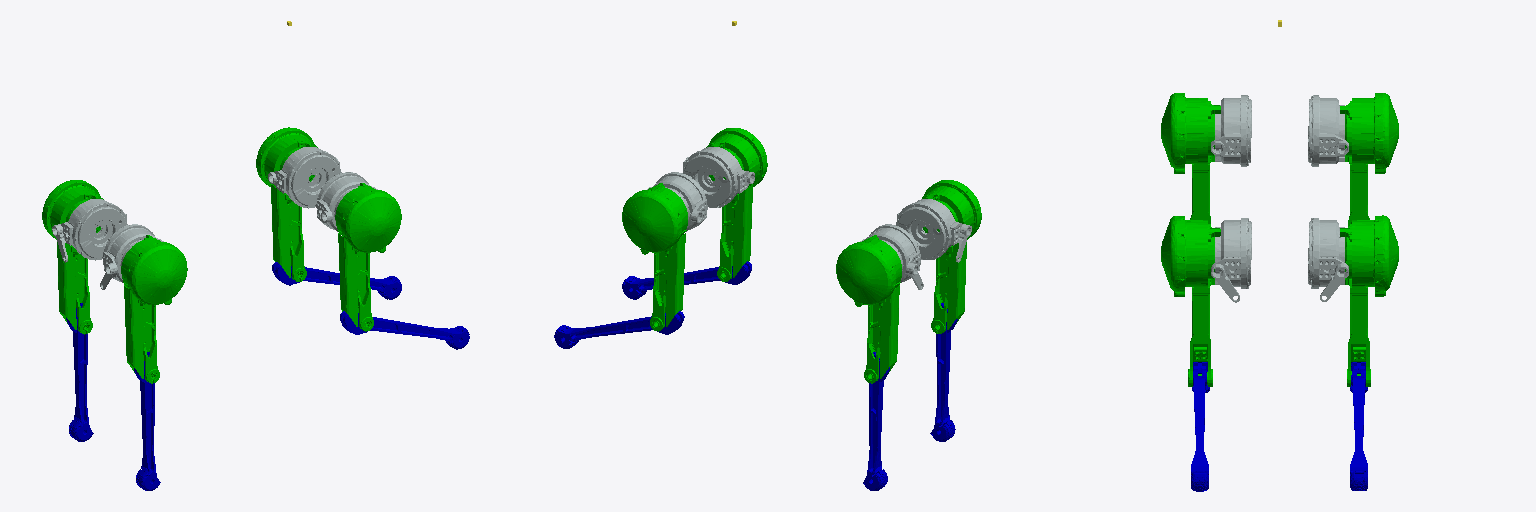
URDF robot description (jueying_model):
<?xml version="1.0" encoding="utf-8"?>
<!-- 
绝影的URDF文件，使用ANYmal的命名方式，将所有规则和内容与ANYmal相统一以嵌入其强化学习算法系统
数据来自SOLIDWORKS-URDF插件导入，但命名方式以及排版经过修改
父版本：1123_Jewel

__删除了关节的Safety项(20191118）
__将外观mesh文件的路径修改为相对路径(20191118）
__修正了RF_HIP的标签字符不全(20191119)
__将mesh全部替换为obj文件(20191120)
__在每条腿末端添加新的球状连杆“FOOT”以及与之相连的固定关节“ANKLE"(20191120)
__使用新的来自Github的绝影URDF重新编写(20191123)
__删除新模型中所有关节的Dynamic项(20191123)
__加入宝石材质(20191123)
__去除了所有的mesh文件调用并使用圆柱代替腿部连杆(20191125)
__代替mesh文件的圆柱可能存在碰撞卡死问题，需要调试
__把所有cylinder的长度调小了十倍以观察位置

-->
<robot name="jueying_model">

    <material name="Obsidian"> 
    	<color rgba="0.05 0.05 0.0 1.0"/> 
    </material>
    <material name="Lasurite"> 
    	<color rgba="0.0 0.0 0.8 0.6"/> 
    </material>
    <material name="Canutillos"> 
    	<color rgba="0.0 0.8 0.0 0.6"/> 
    </material>
    <material name="Pearl"> 
    	<color rgba="0.7 0.75 0.75 1.0"/> 
    </material>
    <material name="Ruby"> 
    	<color rgba="0.8 0.0 0.0 0.6"/> 
    </material>

    <material name="Diamond"> 
    	<color rgba="1.0 1.0 1.0 0.2"/> 
    </material>

    <link name="base">
        <visual>
            <origin xyz="0 0 0" rpy="1.57 0 3.14" />
            <geometry>
                <mesh filename="../meshes/base_link.obj" />
                <!-- <cylinder length="0.5" radius="0.04"/> -->
            </geometry>
            <material name="Diamond"/>
        </visual>
        <collision>
            <origin xyz="0 0 0" rpy="0 1.57 0" />
            <geometry>
                <!-- <mesh filename="../meshes/base_link.obj" /> -->
                <cylinder length="0.5" radius="0.04"/>
            </geometry>
        </collision>
    </link>


    <joint name="base_to_base_inertia" type="fixed">
        <parent link="base"/>
        <child link="base_inertia"/>
        <origin rpy="0 0 0" xyz="0 0 0"/>
    </joint>


    <link name="base_inertia">
        <inertial>
            <origin xyz="0.0030652 0.0043949 0.015248" rpy="0 0 0" />
            <mass value="30.0" />
            <inertia ixx="0.15234" ixy="0.00092094" ixz="-0.0095582" iyy="0.68188" iyz="0.00091552" izz="0.64094" />
        </inertial>
    </link>


    <link name="imu_link">
        <inertial>
            <mass value="0.001"/>
            <origin rpy="0 0 0" xyz="0 0 0"/>
            <inertia ixx="0.0001" ixy="0" ixz="0" iyy="0.000001" iyz="0" izz="0.0001"/>
        </inertial>
        <visual>
            <origin rpy="0 0 0" xyz="0 0 0"/>
            <geometry>
                <box size="0.001 0.001 0.001"/>
            </geometry>
        </visual>
        <collision>
            <origin rpy="0 0 0" xyz="0 0 0"/>
            <geometry>
                <box size=".001 .001 .001"/>
            </geometry>
        </collision>
    </link>


    <joint name="imu_joint" type="fixed">
        <axis xyz="0 0 0"/> 
        <origin xyz="0 0 0"/>
        <parent link="base"/>
        <child link="imu_link"/>
    </joint>

    <link name="lidar_link">
        <visual>
            <origin rpy="0 0 0" xyz="0 0 0"/>
            <geometry>
                <box size="0.01 0.01 0.01"/>
            </geometry>
        </visual>
        <collision>
            <origin rpy="0 0 0" xyz="0 0 0"/>
            <geometry>
                <box size=".01 .01 .01"/>
            </geometry>
        </collision>
    </link>


    <joint name="lidar_joint" type="fixed">
        <axis xyz="0 0 0"/> 
        <origin xyz="0.2 0 0.5"/>
        <parent link="base"/>
        <child link="lidar_link"/>
    </joint>



    <link name="LF_HIP">
        <inertial>
            <origin xyz="-0.002759 -0.038003 -0.0020471" rpy="0 0 0" />
            <mass value="3.0" />
            <inertia ixx="0.00084975" ixy="2.5128E-05" ixz="-3.1095E-05" iyy="0.0016235" iyz="1.9684E-05" izz="0.0012084" />
        </inertial>
        <visual>
            <origin xyz="0 0 0" rpy=" 1.5707963268 0 3.1415926" />
            <geometry>
                <mesh filename="../meshes/FL_HipX.obj" />
                <!-- <cylinder length="0.136" radius="0.008"/> -->
            </geometry>
            <material name="Pearl"/>
        </visual>
    </link>


    <joint name="LF_HAA" type="revolute">
        <origin xyz="0.317 0.136 0" rpy="0 0 0" />
        <parent link="base" />
        <child link="LF_HIP" />
        <axis xyz="1 0 0" />
        <limit lower="-0.39" upper="0.39" effort="38.6" velocity="13.6" />
    </joint>


    <link name="LF_THIGH">
        <inertial>
            <origin xyz="-0.0024066 0.026983 -0.047138" rpy="0 0 0" />
            <mass value="6.0" />
            <inertia ixx="0.0091835" ixy="-5.5596E-05" ixz="-0.00026799" iyy="0.0095232" iyz="-0.0011185" izz="0.0023439" />
        </inertial>
        <visual>
            <origin xyz="0 0 0" rpy="1.5707963268 0 3.1415926" />
            <geometry>
                <mesh filename="../meshes/FL_HipY.obj" />                
                <!-- <cylinder length="0.25" radius="0.015"/> -->
            </geometry>
            <material name="Canutillos"/>
        </visual>
        <collision>
            <origin xyz="0 0 -0.125" rpy="0 0 0" />
            <geometry>
                <!-- <mesh filename="../meshes/FL_HipY.obj" /> -->                
                <cylinder length="0.25" radius="0.015"/>
            </geometry>
        </collision>
    </link>


    <joint name="LF_HFE" type="revolute">
        <origin xyz="0.0005 0.037 0" rpy="0 0 0" />
        <parent link="LF_HIP" />
        <child link="LF_THIGH" />
        <axis xyz="0 1 0" />
        <limit lower="-2.27" upper="2.27" effort="52.1" velocity="13.4" />
    </joint>


    <link name="LF_SHANK">
        <inertial>
            <origin xyz="-0.0045936 4.5131E-05 -0.14462" rpy="0 0 0" />
            <mass value="1.0" />
            <inertia ixx="0.0048214" ixy="-9.1437E-08" ixz="8.5221E-05" iyy="0.0048402" iyz="1.3168E-06" izz="5.8603E-05" />
        </inertial>
        <visual>
            <origin xyz="0 0 0" rpy="1.5707963268 0 3.1415926" />
            <geometry>
                <mesh filename="../meshes/FL_Knee.obj" />             
                <!-- <cylinder length="0.3" radius="0.01"/> -->
            </geometry>
            <material name="Lasurite"/>
        </visual>
<!--         <collision>
            <origin xyz="0 0 -0.15" rpy="0 0 0" />
            <geometry>
                <mesh filename="../meshes/FL_Knee.obj" />             
                <cylinder length="0.3" radius="0.01"/>
            </geometry>
        </collision> -->
    </link>


    <joint name="LF_KFE" type="revolute">
        <origin xyz="0 0 -0.3" rpy="0 0 0" />
        <parent link="LF_THIGH" />
        <child link="LF_SHANK" />
        <axis xyz="0 1 0" />
        <limit lower="-1.73" upper="-0.66" effort="52.1" velocity="13.4" />
    </joint>


    <joint name="LF_ANKLE" type="fixed">
        <parent link="LF_SHANK"/>
        <child link="LF_FOOT"/>
        <origin rpy="0.0 0.0 0.0" xyz="0.0 0.0 -0.32125"/>
    </joint>


    <link name="LF_FOOT">
        <collision>
            <origin xyz="0 0 0.02325"/>
            <geometry>
                <sphere radius="0.035"/>
            </geometry>
        </collision>
    </link>


    <link name="RF_HIP">
        <inertial>
            <origin xyz="-0.0028162 0.038003 -0.002047" rpy="0 0 0" />
            <mass value="3.0" />
            <inertia ixx="0.00084975" ixy="-2.428E-05" ixz="-3.1139E-05" iyy="0.0016234" iyz="-1.9684E-05" izz="0.0012083" />
        </inertial>
        <visual>           
            <origin xyz="0 0 0" rpy="1.5707963268 0 3.1415926" />
            <geometry>
                <mesh filename="../meshes/FR_HipX.obj" />             
                <!-- <cylinder length="0.136" radius="0.008"/> -->
            </geometry>
            <material name="Pearl"/>
        </visual>
    </link>


    <joint name="RF_HAA" type="revolute">
        <origin xyz="0.317 -0.136 0" rpy="0 0 0" />
        <parent link="base" />
        <child link="RF_HIP" />
        <axis xyz="1 0 0" />
        <limit lower="-0.39" upper="0.39" effort="38.6" velocity="13.6" />
    </joint>


    <link name="RF_THIGH">
        <inertial>
            <origin xyz="-0.0024606 -0.026992 -0.04713" rpy="0 0 0" />
            <mass value="6.0" />
            <inertia ixx="0.0091855" ixy="5.5548E-05" ixz="-0.00027265" iyy="0.0095244" iyz="0.0011191" izz="0.0023439" />
        </inertial>
        <visual>
            <origin xyz="0 0 0" rpy="1.5707963268 0 3.1415926" />
            <geometry>
                <mesh filename="../meshes/FR_HipY.obj" />                
                <!-- <cylinder length="0.25" radius="0.015"/> -->
            </geometry>
            <material name="Canutillos"/>
        </visual>
        <collision>
            <origin xyz="0 0 -0.125" rpy="0 0 0" />
            <geometry>
                <!-- <mesh filename="../meshes/FR_HipY.obj" /> -->                
                <cylinder length="0.25" radius="0.015"/>
            </geometry>
        </collision>
    </link>


    <joint name="RF_HFE" type="revolute">
        <origin xyz="0.0005 -0.037 0" rpy="0 0 0" />
        <parent link="RF_HIP" />
        <child link="RF_THIGH" />
        <axis xyz="0 1 0" />
        <limit lower="-2.27" upper="2.27" effort="52.1" velocity="13.4" />
    </joint>


    <link name="RF_SHANK">
        <inertial>
            <origin xyz="-0.004523 4.5131E-05 -0.14462" rpy="0 0 0" />
            <mass value="1.0" />
            <inertia ixx="0.0048214" ixy="-9.208E-08" ixz="8.7546E-05" iyy="0.0048402" iyz="1.3168E-06" izz="5.8687E-05" />
        </inertial>
        <visual>
            <origin xyz="0 0 0" rpy="1.5707963268 0 3.1415926" />
            <geometry>
                <mesh filename="../meshes/FR_Knee.obj" /> 
                <!-- <cylinder length="0.3" radius="0.01"/> -->
            </geometry>
            <material name="Lasurite"/>
        </visual>
<!--         <collision>
            <origin xyz="0 0 -0.15" rpy="0 0 0" />
            <geometry>
                <mesh filename="../meshes/FR_Knee.obj" /> 
                <cylinder length="0.3" radius="0.01"/>
            </geometry>
        </collision> -->
    </link>


    <joint name="RF_KFE" type="revolute">
        <origin xyz="-0.00014645 0 -0.3" rpy="0 0 0" />
        <parent link="RF_THIGH" />
        <child link="RF_SHANK" />
        <axis xyz="0 1 0" />
        <limit lower="-1.73" upper="-0.66" effort="52.1" velocity="13.4" />
    </joint>


    <joint name="RF_ANKLE" type="fixed">
        <parent link="RF_SHANK"/>
        <child link="RF_FOOT"/>
        <origin rpy="0.0 0.0 0.0" xyz="0.0 0.0 -0.32125"/>
    </joint>


    <link name="RF_FOOT">
        <collision>
            <origin xyz="0 0 0.02325"/>
            <geometry>
                <sphere radius="0.035"/>
            </geometry>
        </collision>
    </link>


    <link name="LH_HIP">
        <inertial>
            <origin xyz="0.0033162 -0.038003 -0.0020471" rpy="0 0 0" />
            <mass value="3.0" />
            <inertia ixx="0.00084975" ixy="-2.428E-05" ixz="3.1139E-05" iyy="0.0016234" iyz="1.9684E-05" izz="0.0012083" />
        </inertial>
        <visual>
            <origin xyz="0 0 0" rpy="1.5707963268 0 3.1415926" />
            <geometry>
                <mesh filename="../meshes/HL_HipX.obj" />
                <!-- <cylinder length="0.136" radius="0.008"/> -->
            </geometry>
            <material name="Pearl"/>
        </visual>
    </link>


    <joint name="LH_HAA" type="revolute">
        <origin xyz="-0.317 0.136 0" rpy="0 0 0" />
        <parent link="base" />
        <child link="LH_HIP" />
        <axis xyz="1 0 0" />
        <limit lower="-0.39" upper="0.39" effort="38.6" velocity="13.6" />
    </joint>


    <link name="LH_THIGH">
        <inertial>
            <origin xyz="-0.0024066 0.026983 -0.047138" rpy="0 0 0" />
            <mass value="6.0" />
            <inertia ixx="0.0091835" ixy="-5.5596E-05" ixz="-0.00026799" iyy="0.0095232" iyz="-0.0011185" izz="0.0023439" />
        </inertial>
        <visual>
            <origin xyz="0 0 0" rpy="1.5707963268 0 3.1415926" />
            <geometry>
                <mesh filename="../meshes/HL_HipY.obj" />             
                <!-- <cylinder length="0.25" radius="0.015"/> -->
            </geometry>
            <material name="Canutillos"/>
        </visual>
        <collision>
            <origin xyz="0 0 -0.125" rpy="0 0 0" />
            <geometry>
                <!-- <mesh filename="../meshes/HL_HipY.obj" /> -->             
                <cylinder length="0.25" radius="0.015"/>
            </geometry>
        </collision>
    </link>


    <joint name="LH_HFE" type="revolute">
        <origin xyz="0 0.037 0" rpy="0 0 0" />
        <parent link="LH_HIP" />
        <child link="LH_THIGH" />
        <axis xyz="0 -1 0" />
        <limit lower="-2.27" upper="2.27" effort="52.1" velocity="13.4" />
    </joint>


    <link name="LH_SHANK">
        <inertial>
            <origin xyz="-0.0045936 0.0020451 -0.14462" rpy="0 0 0" />
            <mass value="1.0" />
            <inertia ixx="0.0048214" ixy="-9.1438E-08" ixz="8.5221E-05" iyy="0.0048402" iyz="1.3168E-06" izz="5.8603E-05" />
        </inertial>
        <visual>
            <origin xyz="0 0 0" rpy="1.5707963268 0 3.1415926" />
            <geometry>
                <mesh filename="../meshes/HL_Knee.obj" />
                <!-- <cylinder length="0.3" radius="0.01"/> -->
            </geometry>
            <material name="Lasurite"/>
        </visual>
<!--         <collision>
            <origin xyz="0 0 -0.15" rpy="0 0 0" />
            <geometry>
                <mesh filename="../meshes/HL_Knee.obj" />
                <cylinder length="0.3" radius="0.01"/>
            </geometry>
        </collision> -->
    </link>


    <joint name="LH_KFE" type="revolute">
        <origin xyz="0 0 -0.3" rpy="0 0 0" />
        <parent link="LH_THIGH" />
        <child link="LH_SHANK" />
        <axis xyz="0 1 0" />
        <limit lower="-1.570796" upper="0.66" effort="52.1" velocity="13.4" />
    </joint>


    <joint name="LH_ANKLE" type="fixed">
        <parent link="LH_SHANK"/>
        <child link="LH_FOOT"/>
        <origin rpy="0.0 0.0 0.0" xyz="0.0 0.0 -0.32125"/>
    </joint>


    <link name="LH_FOOT">
        <collision>
            <origin xyz="0 0 0.02325"/>
            <geometry>
                <sphere radius="0.035"/>
            </geometry>
        </collision>
    </link>


    <link name="RH_HIP">
        <inertial>
            <origin xyz="0.002759 0.038003 -0.002047" rpy="0 0 0" />
            <mass value="3.0" />
            <inertia ixx="0.00084975" ixy="2.5128E-05" ixz="3.1095E-05" iyy="0.0016235" iyz="-1.9684E-05" izz="0.0012084" />
        </inertial>
        <visual>
            <origin xyz="0 0 0" rpy="1.5707963268 0 3.1415926" />
            <geometry>
                <mesh filename="../meshes/HR_HipX.obj" />
                <!-- <cylinder length="0.136" radius="0.008"/> -->
            </geometry>
            <material name="Pearl"/>
        </visual>
    </link>


    <joint name="RH_HAA" type="revolute">
        <origin xyz="-0.317 -0.136 0" rpy="0 0 0" />
        <parent link="base" />
        <child link="RH_HIP" />
        <axis xyz="1 0 0" />
        <limit lower="-0.39" upper="0.39" effort="38.6" velocity="13.6" />
    </joint>


    <link name="RH_THIGH">
        <inertial>
            <origin xyz="-0.0024376 -0.026992 -0.047131" rpy="0 0 0" />
            <mass value="6.0" />
            <inertia ixx="0.0091857" ixy="5.5001E-05" ixz="-0.00026931" iyy="0.0095244" iyz="0.0011192" izz="0.0023436" />
        </inertial>
        <visual>
            <origin xyz="0 0 0" rpy="1.5707963268 0 3.1415926" />
            <geometry>
                <mesh filename="../meshes/HR_HipY.obj" />             
                <!-- <cylinder length="0.25" radius="0.015"/> -->
            </geometry>
            <material name="Canutillos"/>
        </visual>
        <collision>
            <origin xyz="0 0 -0.125" rpy="0 0 0" />
            <geometry>
            	<!-- <mesh filename="../meshes/HR_HipY.obj" /> -->             
                <cylinder length="0.25" radius="0.015"/>
            </geometry>
        </collision>
    </link>


    <joint name="RH_HFE" type="revolute">
        <origin xyz="-0.0005 -0.037 0" rpy="0 0 0" />
        <parent link="RH_HIP" />
        <child link="RH_THIGH" />
        <axis xyz="0 -1 0" />
        <limit lower="-2.27" upper="2.27" effort="52.1" velocity="13.4" />
    </joint>


    <link name="RH_SHANK">
        <inertial>
            <origin xyz="-0.0043525 4.5131E-05 -0.14462" rpy="0 0 0" />
            <mass value="1.0" />
            <inertia ixx="0.0048212" ixy="-9.3632E-08" ixz="9.3158E-05" iyy="0.0048402" iyz="1.3167E-06" izz="5.89E-05" />
        </inertial>
        <visual>
            <origin xyz="0 0 0" rpy="1.5707963268 0 3.1415926" />
            <geometry>
                <mesh filename="../meshes/HR_Knee.obj" />
                <!-- <cylinder length="0.3" radius="0.01"/> -->
            </geometry>
            <material name="Lasurite"/>
        </visual>
<!--         <collision>
            <origin xyz="0 0 -0.15" rpy="0 0 0" />
            <geometry>
                <mesh filename="../meshes/HR_Knee.obj" />
                <cylinder length="0.3" radius="0.01"/>
            </geometry>
        </collision> -->
    </link>


    <joint name="RH_KFE" type="revolute">
        <origin xyz="0 0 -0.3" rpy="0 0 0" />
        <parent link="RH_THIGH" />
        <child link="RH_SHANK" />
        <axis xyz="0 1 0" />
        <limit lower="-1.570796" upper="0.66" effort="52.1" velocity="13.4" />
    </joint>

    <joint name="RH_ANKLE" type="fixed">
        <parent link="RH_SHANK"/>
        <child link="RH_FOOT"/>
        <origin rpy="0.0 0.0 0.0" xyz="0.0 0.0 -0.32125"/>
    </joint>

    <link name="RH_FOOT">
        <collision>
            <origin xyz="0 0 0.02325"/>
            <geometry>
                <sphere radius="0.035"/>
            </geometry>
        </collision>
    </link>


</robot>

--- What the picture shows (computed from the rendered views, not written in the file) ---
Views: 3 orthographic renders of the robot side by side, from view 1: azimuth 30°, elevation 25°; view 2: azimuth 150°, elevation 25°; view 3: azimuth 270°, elevation 25°.
Model jueying_model with 20 links and 19 joints (12 revolute, 7 fixed), rooted at base, posed joints at zero except 2 at the middle of their limits (LF_KFE = -1.2, RF_KFE = -1.2).
Links seen in each view (by area): view 1: RH_THIGH, RF_THIGH, LF_THIGH, LH_THIGH, LH_HIP, LF_HIP, LH_SHANK, RH_SHANK, RF_SHANK, RH_HIP, RF_HIP, LF_SHANK; view 2: LH_THIGH, LF_THIGH, RF_THIGH, RH_THIGH, RH_HIP, RF_HIP, LH_SHANK, RH_SHANK, LF_SHANK, LH_HIP, LF_HIP, RF_SHANK; view 3: RF_THIGH, LF_THIGH, RH_THIGH, LH_THIGH, LF_HIP, RF_HIP, LH_HIP, RH_HIP, LF_SHANK, RF_SHANK.
Boxes of the visible links, x1,y1,x2,y2 form: RH_THIGH: (121, 235, 187, 383); RF_THIGH: (335, 183, 401, 331); LF_THIGH: (256, 127, 317, 281); LH_THIGH: (42, 180, 103, 334); LH_HIP: (52, 199, 127, 262); LF_HIP: (268, 147, 341, 208); LH_SHANK: (66, 303, 93, 441); RH_SHANK: (134, 352, 160, 490); RF_SHANK: (340, 311, 469, 349); RH_HIP: (100, 224, 163, 289); RF_HIP: (316, 172, 377, 231); LF_SHANK: (272, 262, 401, 299); LH_THIGH: (836, 235, 901, 383); LF_THIGH: (622, 183, 687, 331); RF_THIGH: (706, 128, 767, 281); RH_THIGH: (922, 180, 981, 333); RH_HIP: (896, 199, 971, 262); RF_HIP: (683, 147, 754, 207); LH_SHANK: (863, 352, 889, 490); RH_SHANK: (930, 303, 957, 441); LF_SHANK: (554, 311, 684, 348); LH_HIP: (860, 224, 923, 289); LF_HIP: (647, 172, 707, 231); RF_SHANK: (622, 261, 751, 299); RF_THIGH: (1161, 216, 1220, 386); LF_THIGH: (1340, 215, 1398, 386); RH_THIGH: (1161, 93, 1220, 223); LH_THIGH: (1340, 93, 1398, 226); LF_HIP: (1308, 218, 1348, 301); RF_HIP: (1211, 218, 1251, 302); LH_HIP: (1308, 95, 1348, 166); RH_HIP: (1211, 95, 1251, 166); LF_SHANK: (1350, 362, 1367, 490); RF_SHANK: (1191, 362, 1208, 491).
Size in the robot's own frame: 1.04 by 0.52 by 1.14 metres.
12 mesh visuals loaded from 13 distinct referenced files (12 OBJ); not drawn: 1 (reference not matched to a file when rendering).
